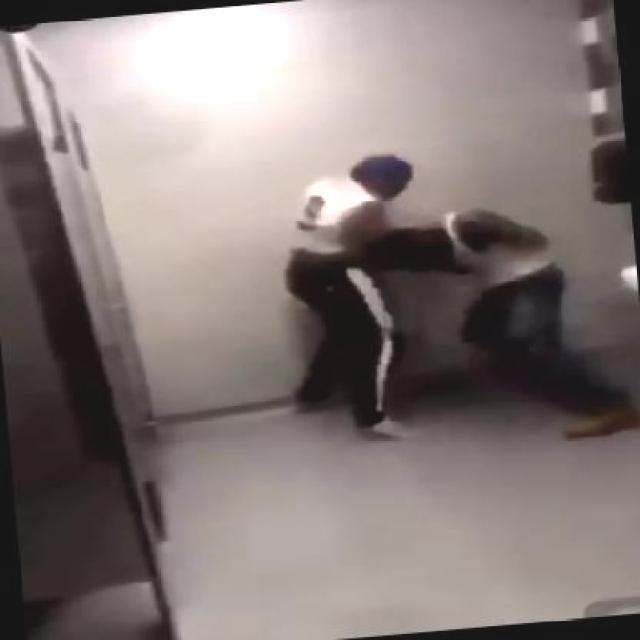fight: (282, 137, 638, 466)
